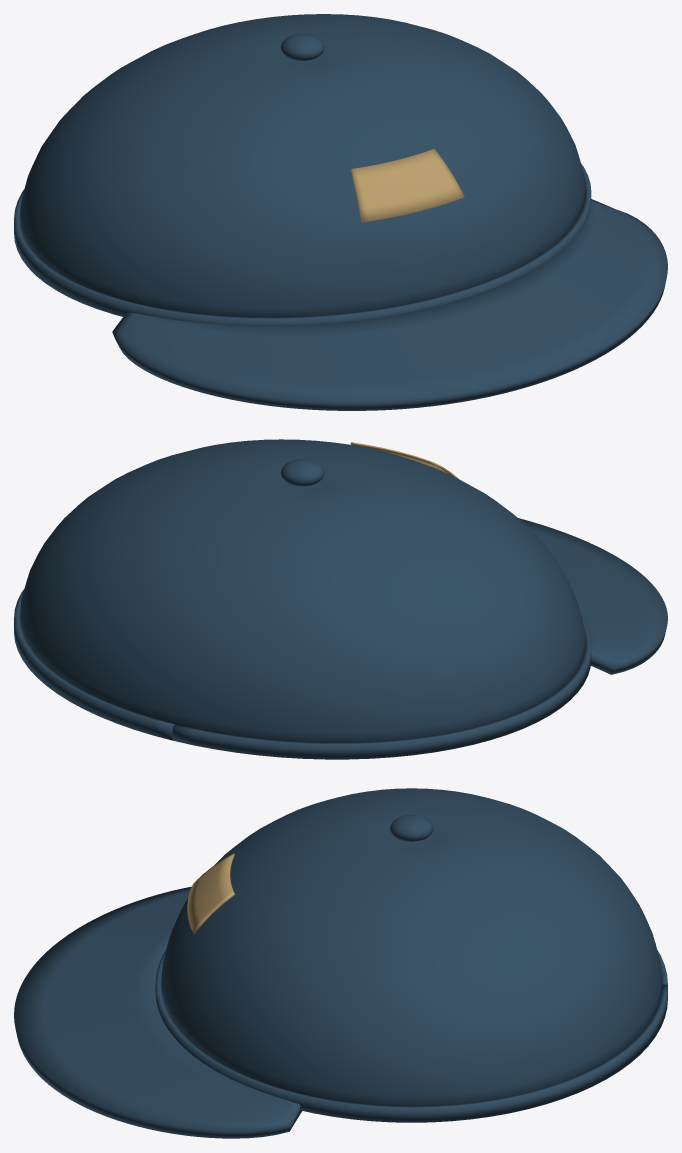
Rendered from goose-headwear-cap.glb.
The picture shows the model from 3 angles, top to bottom: view 1: azimuth 30°, elevation 25°; view 2: azimuth 150°, elevation 25°; view 3: azimuth 270°, elevation 25°; orthographic projection.
Visible parts, largest first — view 1: goose_headwear_cap_mesh; view 2: goose_headwear_cap_mesh; view 3: goose_headwear_cap_mesh.
Part boxes in pixels (x1,y1,x2,y2): goose_headwear_cap_mesh: [14, 14, 667, 410]; goose_headwear_cap_mesh: [14, 439, 667, 759]; goose_headwear_cap_mesh: [14, 788, 667, 1138].
Size of the model in its own units: 0.9526 by 0.3678 by 1.06.
